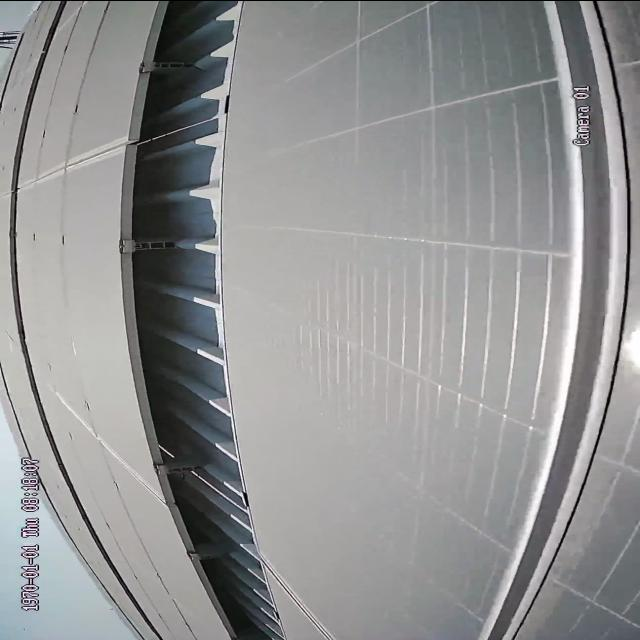interior panel: (473, 0, 627, 638), (57, 392, 160, 502), (268, 554, 339, 637), (20, 137, 122, 187)
outher panel: (122, 0, 286, 640)
